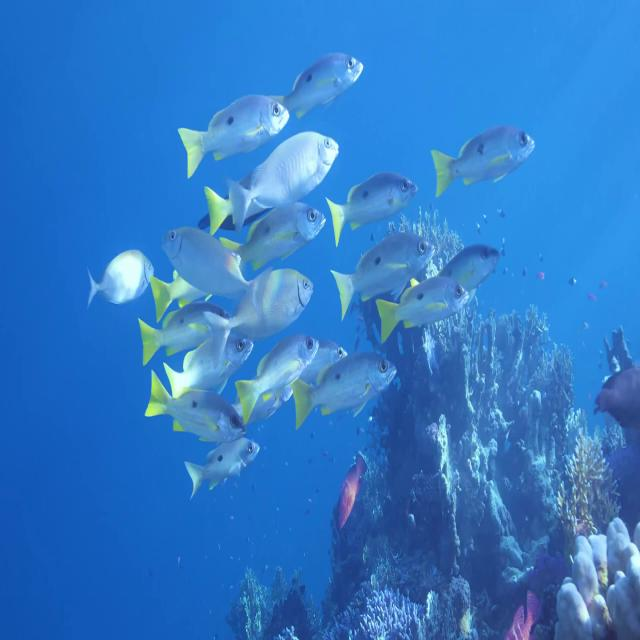fish: (225, 125, 340, 232), (428, 103, 540, 210), (292, 337, 405, 442), (174, 82, 288, 186), (157, 210, 255, 322), (225, 234, 317, 350), (159, 308, 267, 406), (235, 313, 322, 434), (322, 231, 431, 317), (133, 368, 246, 446), (177, 420, 267, 516), (231, 184, 326, 274), (271, 334, 351, 439), (377, 273, 478, 353), (278, 36, 367, 124), (329, 174, 421, 249), (326, 443, 379, 555), (80, 245, 155, 319), (448, 240, 503, 302)
